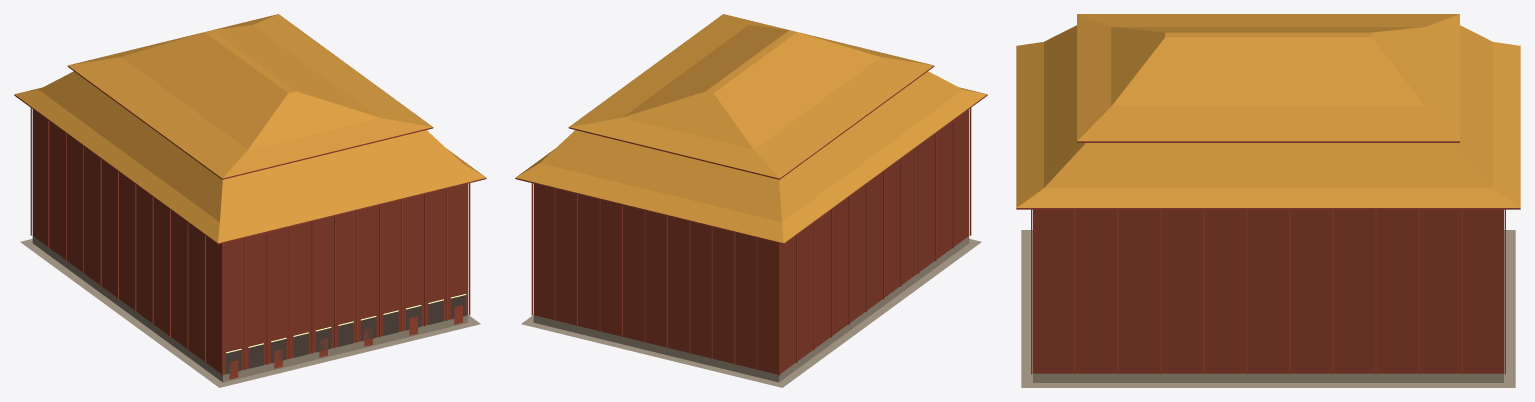
The model's file is shell.glb.
3 renders of one model, left to right at view 1: azimuth 30°, elevation 25°; view 2: azimuth 150°, elevation 25°; view 3: azimuth 270°, elevation 25°, orthographic. The views are drawn at different scales.
Parts seen in each view (by area): view 1: shell_bowl_mass_cladding, shell_roof_canopy_hip_2, shell_roof_canopy_hip_1, shell_bowl_mass_facade_panels, shell_bowl_mass_suite_glass_lobby, shell_bowl_mass_plinth, shell_field_floor_apron, shell_roof_canopy_fascia, shell_bowl_mass_portal_frames; view 2: shell_bowl_mass_cladding, shell_roof_canopy_hip_2, shell_roof_canopy_hip_1, shell_bowl_mass_facade_panels, shell_bowl_mass_plinth, shell_field_floor_apron, shell_roof_canopy_fascia; view 3: shell_bowl_mass_cladding, shell_roof_canopy_hip_2, shell_roof_canopy_hip_1, shell_field_floor_apron, shell_bowl_mass_plinth, shell_bowl_mass_facade_panels, shell_roof_canopy_fascia.
Boxes of the visible parts, <box> form: shell_bowl_mass_cladding: <box>32,109,468,374</box>; shell_roof_canopy_hip_2: <box>68,14,432,178</box>; shell_roof_canopy_hip_1: <box>15,71,486,243</box>; shell_bowl_mass_facade_panels: <box>30,108,470,375</box>; shell_bowl_mass_suite_glass_lobby: <box>226,295,465,374</box>; shell_bowl_mass_plinth: <box>32,236,468,382</box>; shell_field_floor_apron: <box>20,239,480,387</box>; shell_roof_canopy_fascia: <box>14,14,486,244</box>; shell_bowl_mass_portal_frames: <box>229,305,462,379</box>; shell_bowl_mass_cladding: <box>533,109,969,374</box>; shell_roof_canopy_hip_2: <box>569,14,933,178</box>; shell_roof_canopy_hip_1: <box>515,71,986,243</box>; shell_bowl_mass_facade_panels: <box>531,108,971,375</box>; shell_bowl_mass_plinth: <box>533,236,969,382</box>; shell_field_floor_apron: <box>521,239,981,387</box>; shell_roof_canopy_fascia: <box>515,14,987,244</box>; shell_bowl_mass_cladding: <box>1033,209,1503,373</box>; shell_roof_canopy_hip_2: <box>1077,14,1459,141</box>; shell_roof_canopy_hip_1: <box>1016,25,1520,207</box>; shell_field_floor_apron: <box>1021,230,1515,387</box>; shell_bowl_mass_plinth: <box>1033,373,1503,382</box>; shell_bowl_mass_facade_panels: <box>1031,209,1505,374</box>; shell_roof_canopy_fascia: <box>1016,141,1520,209</box>.
Bounding box in the file's own units: 43.84 × 34.52 × 57.55.
